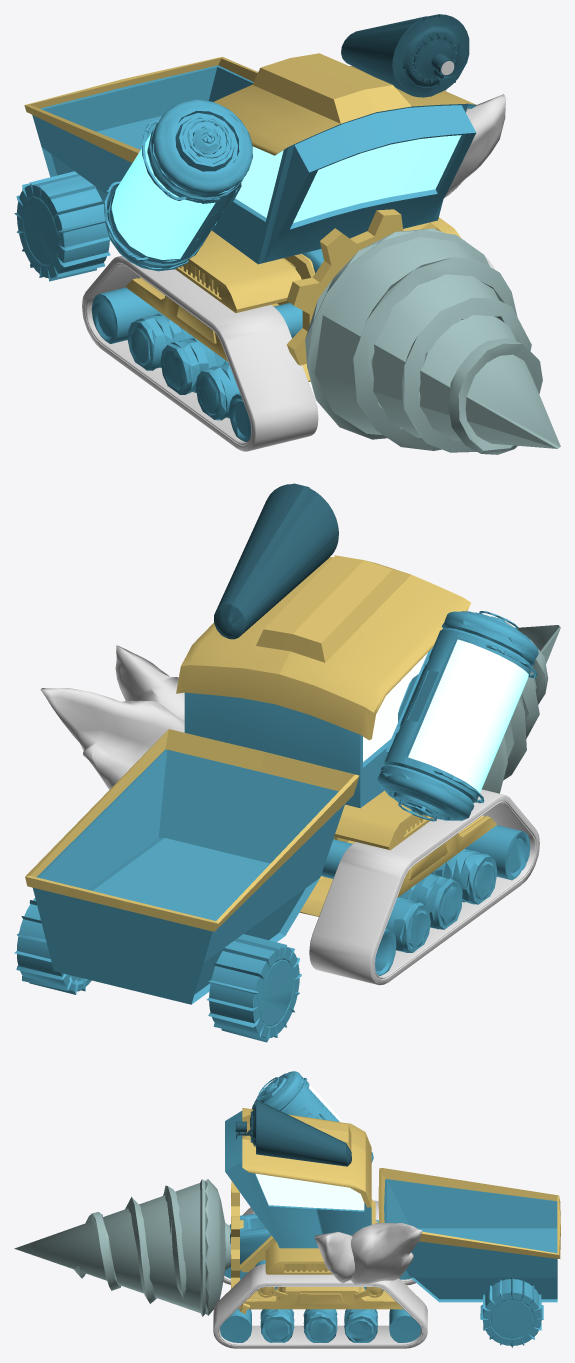
Rendered from placeholderdrill.fbx.
3 renders of one model, top to bottom at view 1: azimuth 30°, elevation 25°; view 2: azimuth 150°, elevation 25°; view 3: azimuth 270°, elevation 25°, orthographic. The views are drawn at different scales.
Visible parts, largest first — view 1: Arm_Drill, Cube, lid.005, Bottom_TracksR.001, Cube.001, Bottom_TrackWheelsRB.002, Bottom_VentsBaseR.001, Bottom_TrackRotatorsRBD.004, MainBoiler.003, Cylinder.002, SM_RoughRock01_low.001; view 2: Cube.001, Cube, lid.005, Bottom_TracksR.001, Bottom_TrackRotatorsRBD.004, MainBoiler.003, Bottom_TrackWheelsRB.002, SM_RoughRock02_low.001, Bottom_VentsBaseR.001, Arm_Drill, SM_RoughRock01_low.001; view 3: Cube.001, Arm_Drill, Cube, Bottom_TracksR.002, Bottom_VentsBaseR.001, Bottom_TrackWheelsRB.002, MainBoiler.003, Bottom_TrackRotatorsRBD.004, SM_RoughRock02_low.001, lid.005, SM_RoughRock01_low.001, Arm_DrillBase (+1 smaller).
Boxes of the visible parts, left/top/right/bottom form: Arm_Drill: left=305, top=228, right=560, bottom=454; Cube: left=211, top=53, right=476, bottom=264; lid.005: left=104, top=99, right=252, bottom=271; Bottom_TracksR.001: left=82, top=255, right=318, bottom=451; Cube.001: left=24, top=57, right=257, bottom=205; Bottom_TrackWheelsRB.002: left=91, top=287, right=302, bottom=441; Bottom_VentsBaseR.001: left=126, top=217, right=460, bottom=381; Bottom_TrackRotatorsRBD.004: left=14, top=171, right=110, bottom=281; MainBoiler.003: left=341, top=14, right=469, bottom=97; Cylinder.002: left=286, top=209, right=440, bottom=365; SM_RoughRock01_low.001: left=444, top=94, right=506, bottom=197; Cube.001: left=25, top=729, right=359, bottom=1004; Cube: left=176, top=555, right=470, bottom=808; lid.005: left=377, top=611, right=538, bottom=821; Bottom_TracksR.001: left=309, top=789, right=539, bottom=985; Bottom_TrackRotatorsRBD.004: left=14, top=898, right=301, bottom=1042; MainBoiler.003: left=214, top=483, right=338, bottom=639; Bottom_TrackWheelsRB.002: left=321, top=825, right=530, bottom=975; SM_RoughRock02_low.001: left=40, top=688, right=184, bottom=789; Bottom_VentsBaseR.001: left=299, top=790, right=496, bottom=916; Arm_Drill: left=482, top=621, right=560, bottom=793; SM_RoughRock01_low.001: left=115, top=645, right=184, bottom=721; Cube.001: left=378, top=1168, right=560, bottom=1302; Arm_Drill: left=14, top=1179, right=230, bottom=1316; Cube: left=225, top=1108, right=371, bottom=1248; Bottom_TracksR.002: left=213, top=1264, right=427, bottom=1348; Bottom_VentsBaseR.001: left=237, top=1199, right=407, bottom=1314; Bottom_TrackWheelsRB.002: left=220, top=1220, right=420, bottom=1342; MainBoiler.003: left=235, top=1099, right=351, bottom=1166; Bottom_TrackRotatorsRBD.004: left=480, top=1277, right=543, bottom=1347; SM_RoughRock02_low.001: left=350, top=1223, right=421, bottom=1284; lid.005: left=252, top=1071, right=373, bottom=1162; SM_RoughRock01_low.001: left=314, top=1232, right=354, bottom=1283; Arm_DrillBase: left=229, top=1213, right=271, bottom=1263.
Size of the model in its own units: 445 by 398 by 860.
